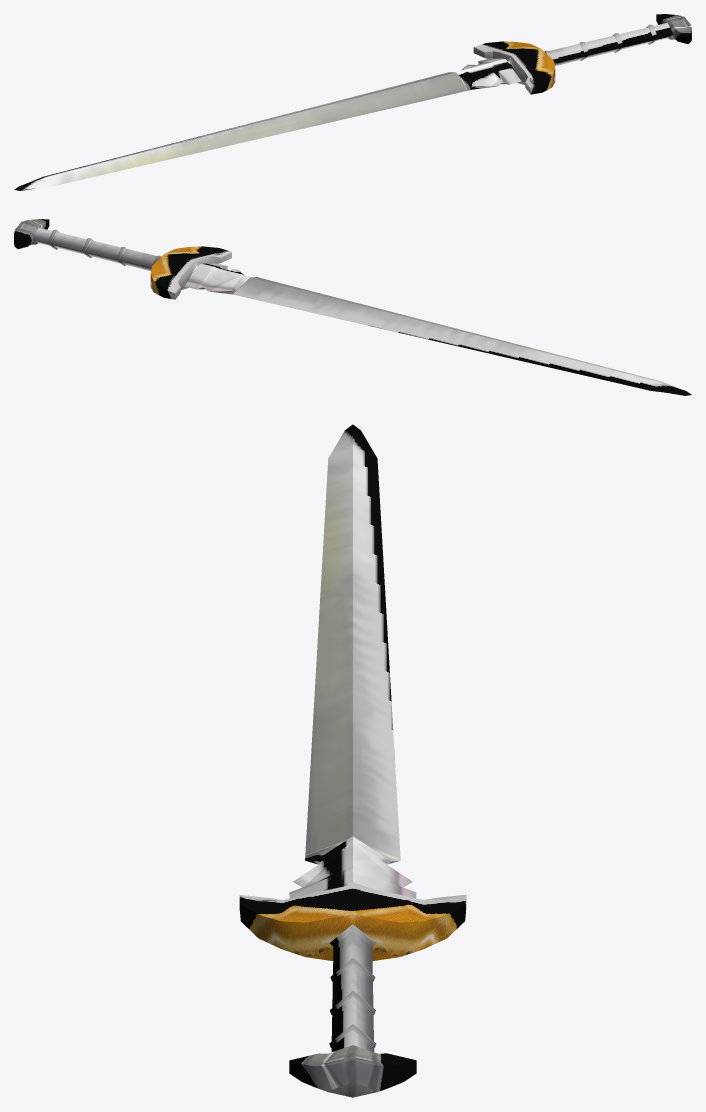
Rendered from Heretic.FBX.
The picture shows the model from 3 angles, top to bottom: view 1: azimuth 30°, elevation 25°; view 2: azimuth 150°, elevation 25°; view 3: azimuth 270°, elevation 25°; orthographic projection. The views are drawn at different scales.
Parts seen in each view (by area): view 1: Heretic; view 2: Heretic; view 3: Heretic.
Part boxes in pixels (x1,y1,x2,y2): Heretic: (14,14,691,190); Heretic: (14,219,691,395); Heretic: (239,424,466,1097).
Size of the model in its own units: 199 by 7.12 by 29.11.
1 material, 1 textured.
